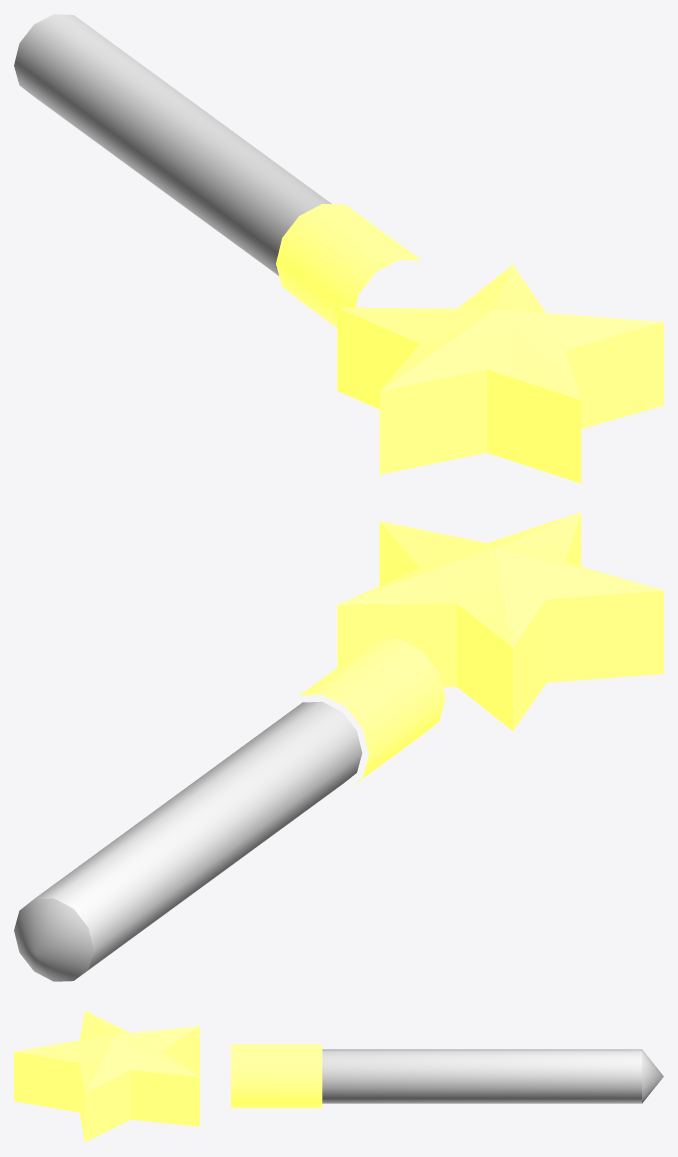
Rendered from light-stick.glb.
The picture shows the model from 3 angles, top to bottom: view 1: azimuth 30°, elevation 25°; view 2: azimuth 150°, elevation 25°; view 3: azimuth 270°, elevation 25°; orthographic projection. The views are drawn at different scales.
Visible parts, largest first — view 1: light-stick; view 2: light-stick; view 3: light-stick.
Part boxes in pixels (x1,y1,x2,y2): light-stick: (14, 14, 663, 483); light-stick: (14, 512, 663, 981); light-stick: (14, 1010, 663, 1142).
Bounding box in the file's own units: 0.0856 × 0.04 × 0.2846.
